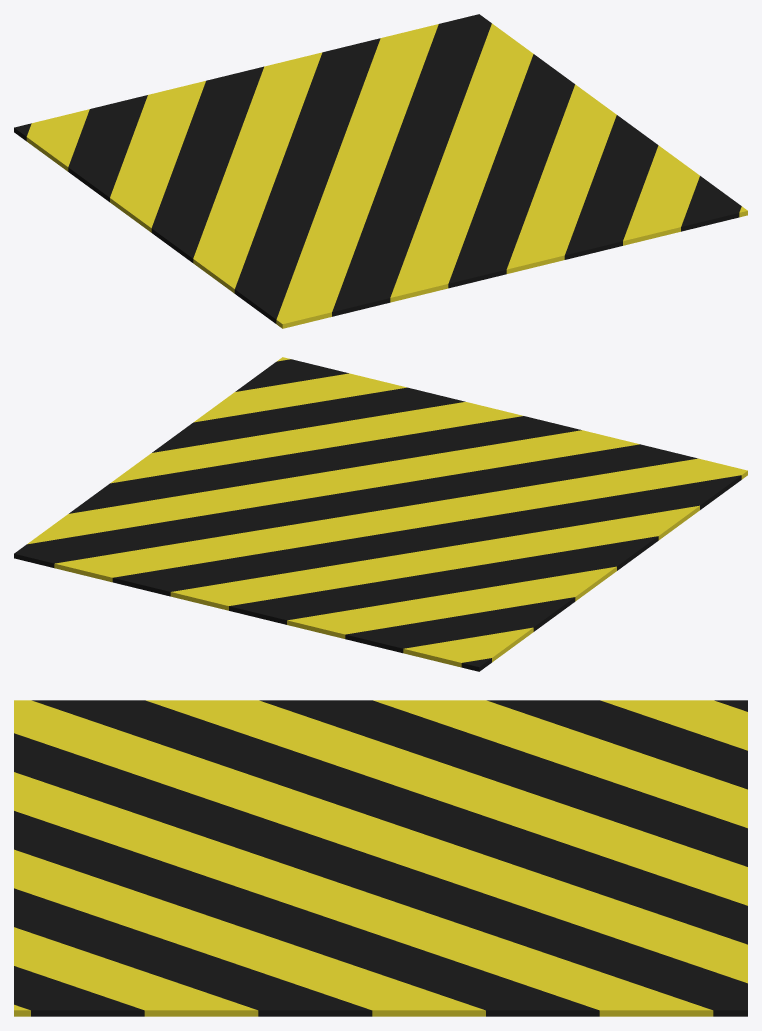
File: hazardFloor.fbx
3 renders of one model, top to bottom at view 1: azimuth 30°, elevation 25°; view 2: azimuth 150°, elevation 25°; view 3: azimuth 270°, elevation 25°, orthographic. The views are drawn at different scales.
Parts seen in each view (by area): view 1: Hazard Floor; view 2: Hazard Floor; view 3: Hazard Floor.
Part boxes in pixels (x1=…): Hazard Floor: x1=14, y1=14, x2=747, y2=328; Hazard Floor: x1=14, y1=357, x2=747, y2=671; Hazard Floor: x1=14, y1=700, x2=747, y2=1016.
Bounding box in the file's own units: 200 × 200 × 1.91.
